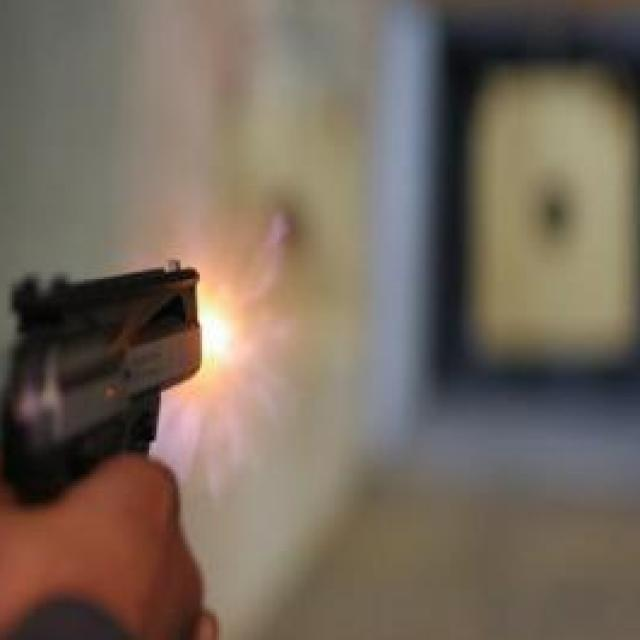pistol: (0, 250, 200, 513)
